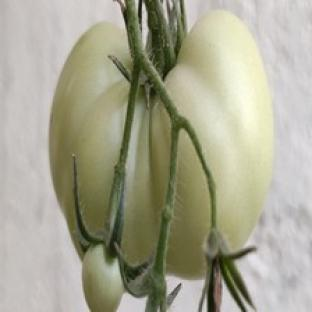Tomato: (51, 24, 130, 249), (83, 244, 123, 311)
